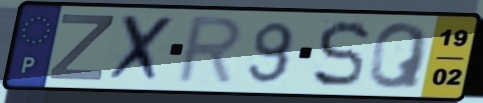9: (249, 19, 298, 87)
Q: (366, 20, 433, 91)
R: (172, 14, 246, 88)
S: (309, 18, 373, 91)
X: (102, 12, 179, 86)
Z: (44, 12, 117, 83)
